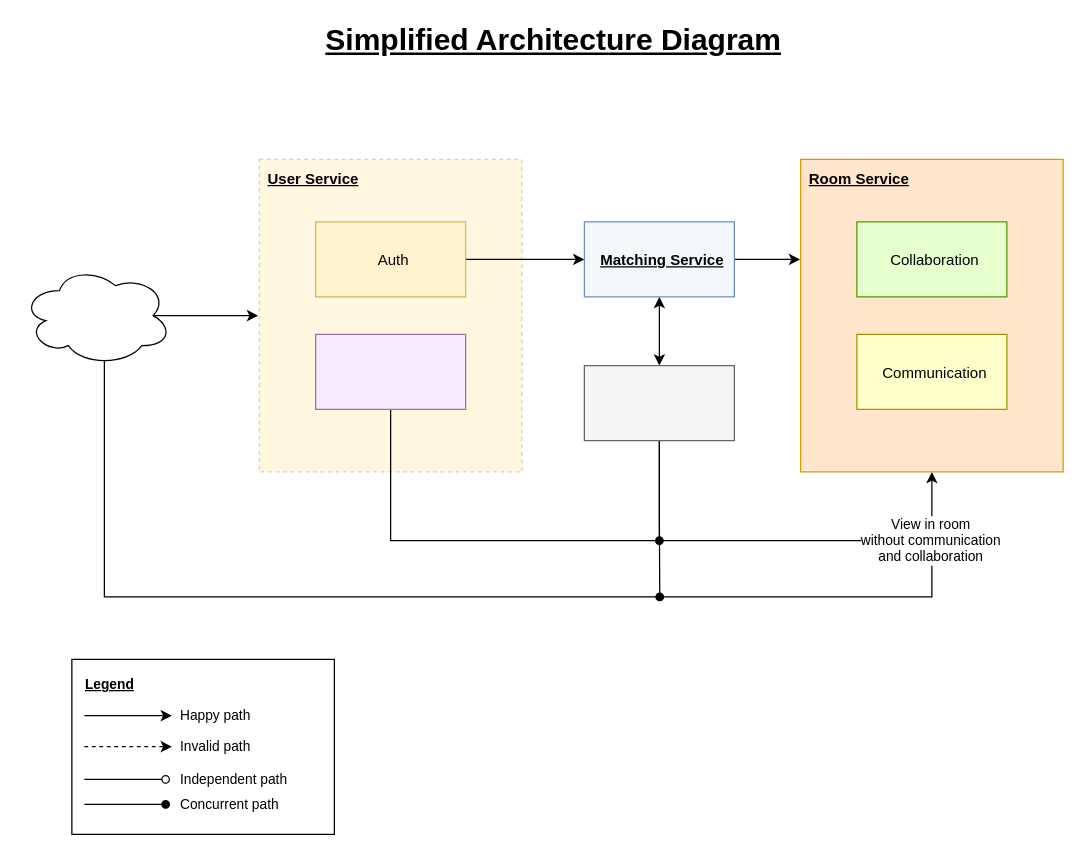
The diagram is 1085 pixels wide and 856 high, and some of its shapes have lost their labels. Each missing label, with the centre of its shape:
"History" belongs at [390,371].
"Question Service" belongs at [658,402].
"Users" belongs at [96,315].
